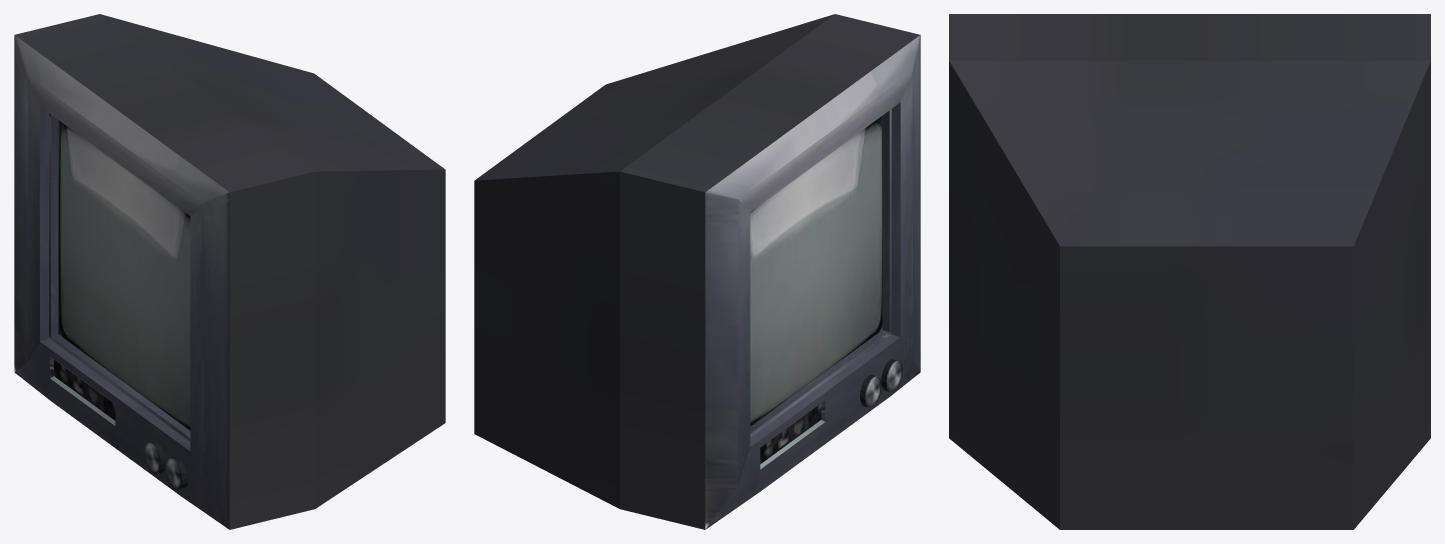
Rendered from msh_TV.fbx.
The picture shows the model from 3 angles, left to right: view 1: azimuth 30°, elevation 25°; view 2: azimuth 150°, elevation 25°; view 3: azimuth 270°, elevation 25°; orthographic projection. The views are drawn at different scales.
Visible parts, largest first — view 1: msh_TV; view 2: msh_TV; view 3: msh_TV.
Boxes of the visible parts, x1,y1,x2,y2 form: msh_TV: (14,14,445,529); msh_TV: (474,14,920,529); msh_TV: (949,14,1430,529).
Size of the model in its own units: 182 by 210 by 242.
